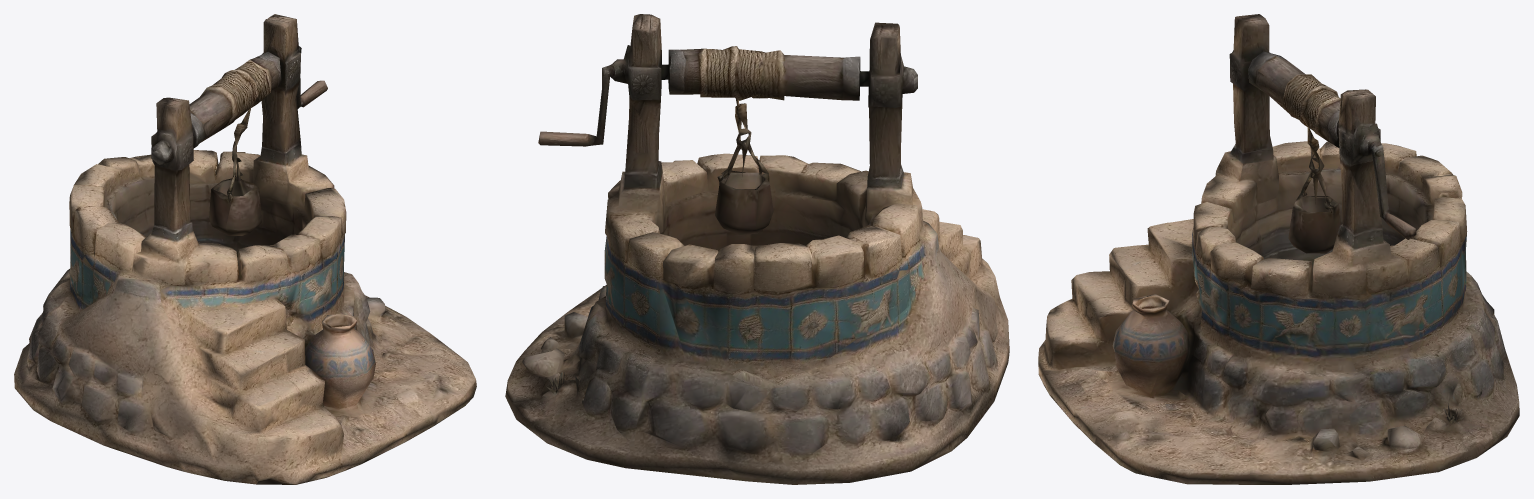
Rendered from well_qanat.glb.
3 views of the same model, side by side, from view 1: azimuth 30°, elevation 25°; view 2: azimuth 150°, elevation 25°; view 3: azimuth 270°, elevation 25° (orthographic). The views are drawn at different scales.
Visible parts, largest first — view 1: tripo_node_9f9c3cf7-a97b-4300-ae4a-6f76fc425e5d; view 2: tripo_node_9f9c3cf7-a97b-4300-ae4a-6f76fc425e5d; view 3: tripo_node_9f9c3cf7-a97b-4300-ae4a-6f76fc425e5d.
Boxes of the visible parts, <box> form: tripo_node_9f9c3cf7-a97b-4300-ae4a-6f76fc425e5d: <box>14,14,476,484</box>; tripo_node_9f9c3cf7-a97b-4300-ae4a-6f76fc425e5d: <box>505,14,1009,484</box>; tripo_node_9f9c3cf7-a97b-4300-ae4a-6f76fc425e5d: <box>1038,14,1519,484</box>.
Bounding box in the file's own units: 0.9001 × 0.7538 × 0.9773.
1 material, 1 textured.
